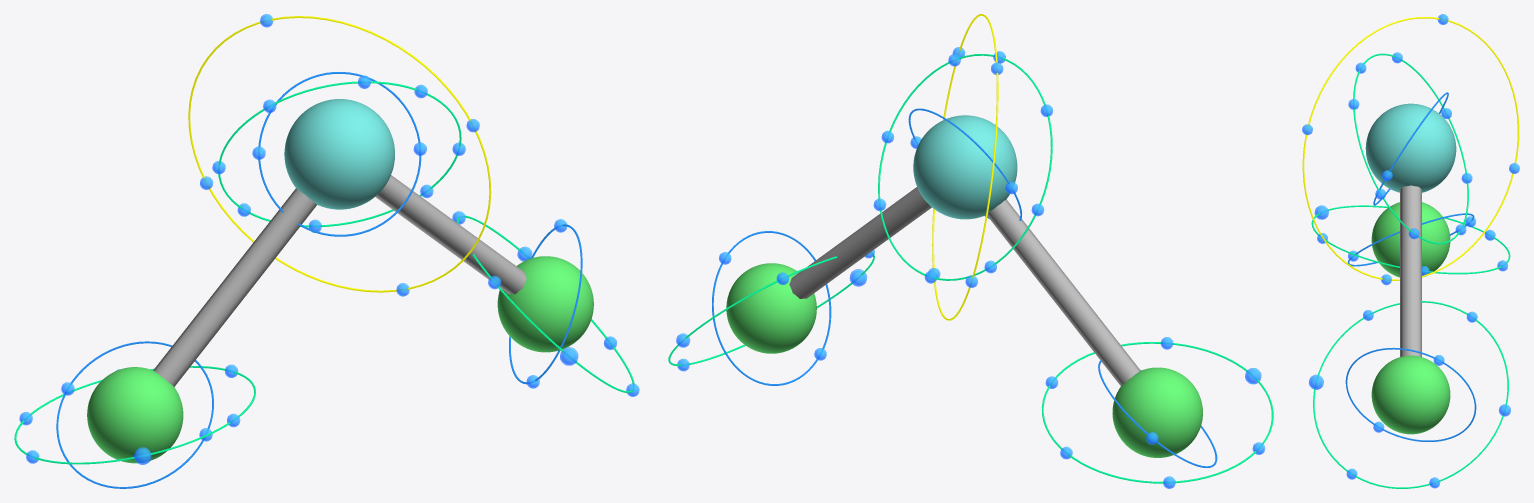
Rendered from SiO2.glb.
3 renders of one model, left to right at view 1: azimuth 30°, elevation 25°; view 2: azimuth 150°, elevation 25°; view 3: azimuth 270°, elevation 25°, orthographic. The views are drawn at different scales.
Parts seen in each view (by area): view 1: O (×2), Si, object 71, object 72, object 24, object 7, object 2, object 34, object 39, object 58, object 53; view 2: O (×2), Si, object 71, object 72, object 7, object 24, object 39, object 53, object 58; view 3: O (×2), Si, object 72, object 24, object 58, object 7, object 53, object 39, object 2, object 34.
Part boxes in pixels (left/top/right/bottom): O (×2): left=87, top=256, right=593, bottom=463; Si: left=284, top=99, right=394, bottom=209; object 71: left=153, top=188, right=316, bottom=386; object 72: left=375, top=175, right=526, bottom=294; object 24: left=188, top=16, right=491, bottom=292; object 7: left=218, top=81, right=461, bottom=227; object 2: left=258, top=72, right=421, bottom=236; object 34: left=56, top=341, right=213, bottom=488; object 39: left=14, top=366, right=255, bottom=464; object 58: left=456, top=215, right=634, bottom=392; object 53: left=509, top=224, right=582, bottom=384; O (×2): left=726, top=263, right=1202, bottom=457; Si: left=913, top=115, right=1017, bottom=219; object 71: left=987, top=199, right=1140, bottom=385; object 72: left=789, top=187, right=931, bottom=298; object 7: left=878, top=54, right=1052, bottom=280; object 24: left=932, top=14, right=998, bottom=320; object 39: left=1041, top=342, right=1273, bottom=483; object 53: left=712, top=231, right=831, bottom=385; object 58: left=668, top=254, right=874, bottom=366; O (×2): left=1371, top=202, right=1450, bottom=434; Si: left=1365, top=103, right=1456, bottom=192; object 72: left=1400, top=185, right=1421, bottom=356; object 24: left=1302, top=17, right=1519, bottom=280; object 58: left=1313, top=301, right=1508, bottom=488; object 7: left=1353, top=53, right=1468, bottom=244; object 53: left=1345, top=347, right=1476, bottom=441; object 39: left=1311, top=205, right=1510, bottom=274; object 2: left=1373, top=92, right=1448, bottom=205; object 34: left=1347, top=213, right=1474, bottom=266.
Size of the model in its own units: 10.3 by 6.91 by 3.92.
